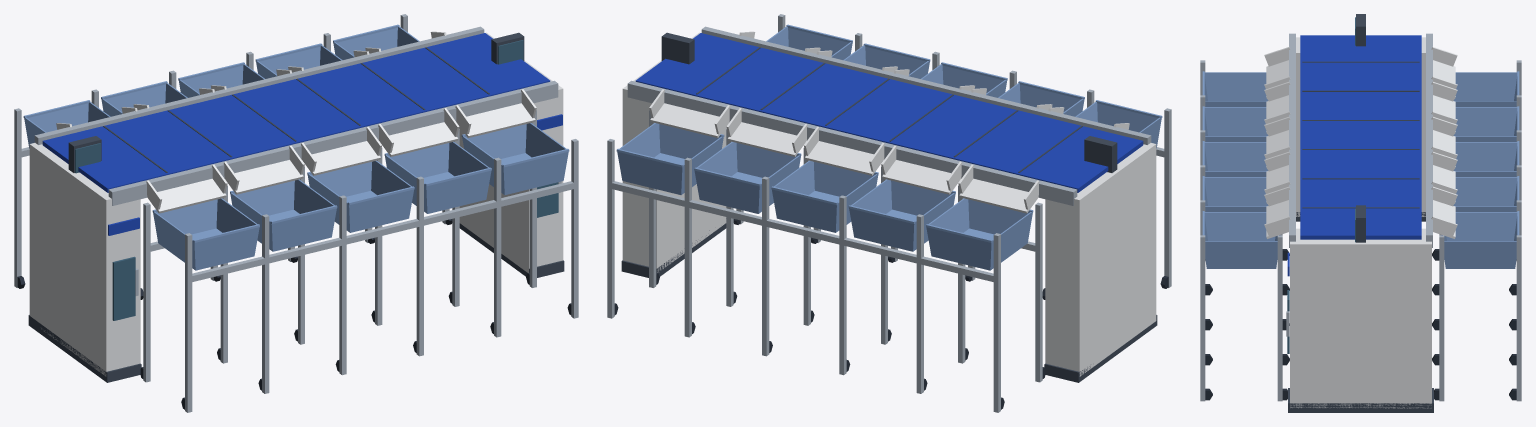
The model's file is SM_MPR_SorterShort10.fbx.
The picture shows the model from 3 angles, left to right: view 1: azimuth 30°, elevation 25°; view 2: azimuth 150°, elevation 25°; view 3: azimuth 270°, elevation 25°; orthographic projection. The views are drawn at different scales.
Parts seen in each view (by area): view 1: SM_MPR_SorterShort10; view 2: SM_MPR_SorterShort10; view 3: SM_MPR_SorterShort10.
Boxes of the visible parts, x1,y1,x2,y2 form: SM_MPR_SorterShort10: [14, 14, 578, 412]; SM_MPR_SorterShort10: [607, 14, 1171, 412]; SM_MPR_SorterShort10: [1200, 14, 1521, 412].
Size of the model in its own units: 276 by 181 by 123.
